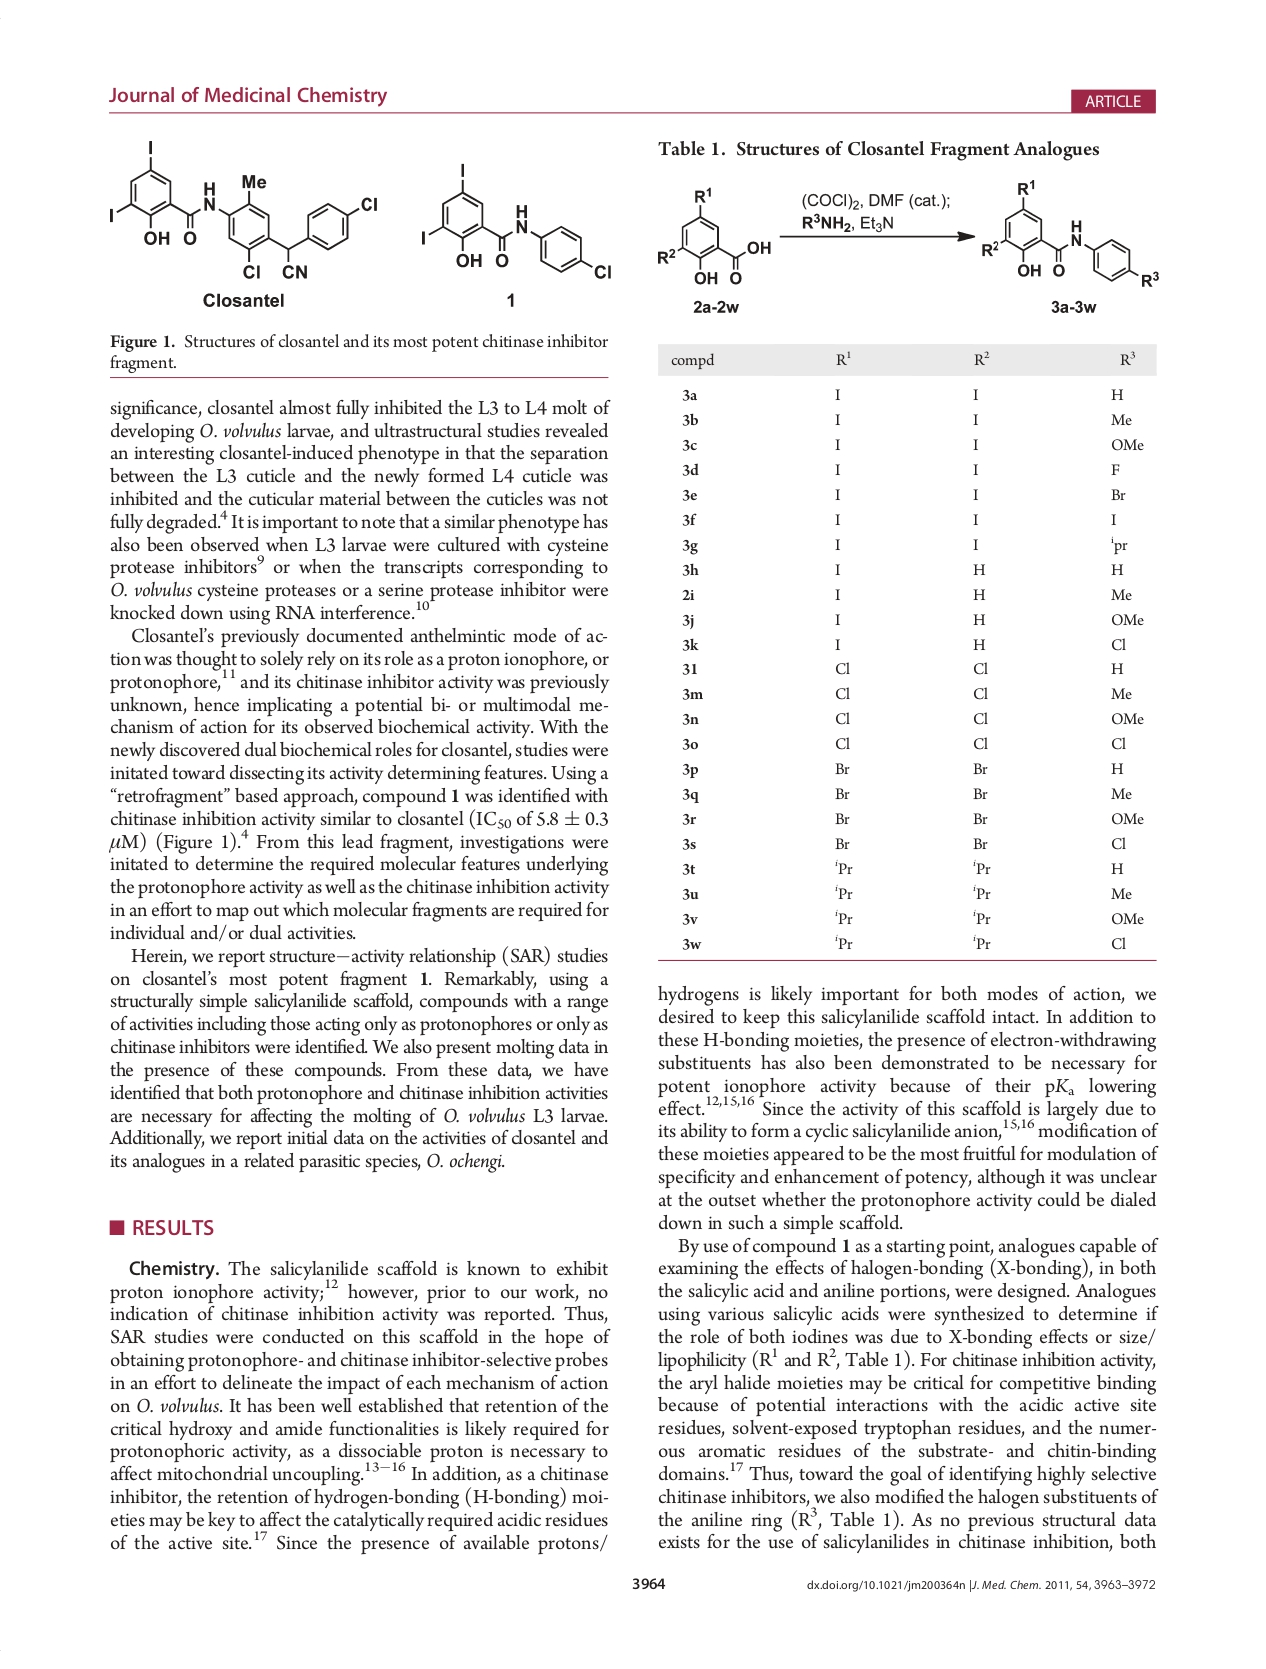exist_molecular: (104, 138, 380, 283), (418, 161, 614, 285), (977, 176, 1162, 290), (653, 184, 775, 290)
